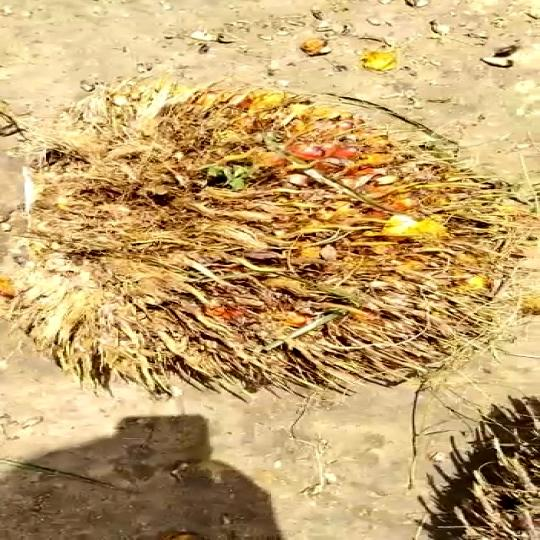terlalu masak: (0, 79, 540, 400)
